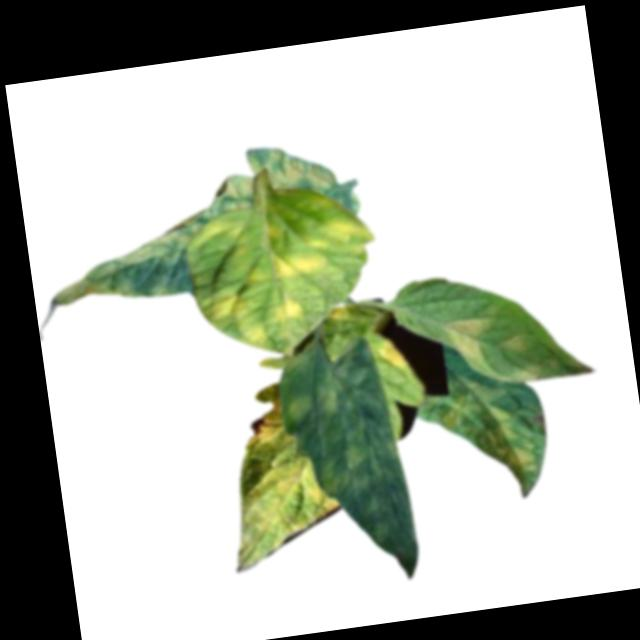Leaf_Mold: (180, 183, 387, 363), (279, 341, 422, 590), (220, 451, 347, 574), (34, 219, 192, 314), (432, 371, 539, 496), (243, 137, 341, 205), (239, 399, 286, 451), (444, 316, 487, 361), (375, 333, 410, 374), (495, 333, 531, 357)
